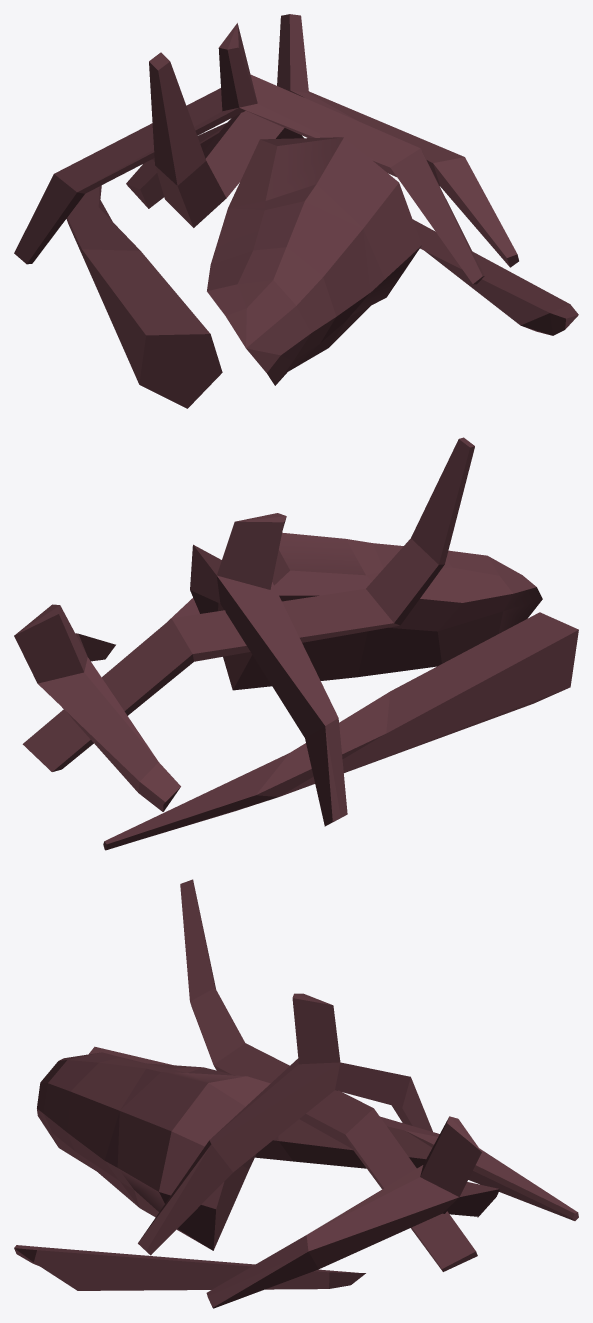
Rendered from SM_Bone_Pile_Prehistoric.fbx.
The picture shows the model from 3 angles, top to bottom: view 1: azimuth 30°, elevation 25°; view 2: azimuth 150°, elevation 25°; view 3: azimuth 270°, elevation 25°; orthographic projection. The views are drawn at different scales.
Visible parts, largest first — view 1: SM_Bone_Pile_Prehistoric; view 2: SM_Bone_Pile_Prehistoric; view 3: SM_Bone_Pile_Prehistoric.
Boxes of the visible parts, left/top/right/bottom form: SM_Bone_Pile_Prehistoric: left=14, top=14, right=578, bottom=408; SM_Bone_Pile_Prehistoric: left=14, top=437, right=578, bottom=850; SM_Bone_Pile_Prehistoric: left=14, top=879, right=578, bottom=1308.
Size of the model in its own units: 1.69 by 1.15 by 2.14.
